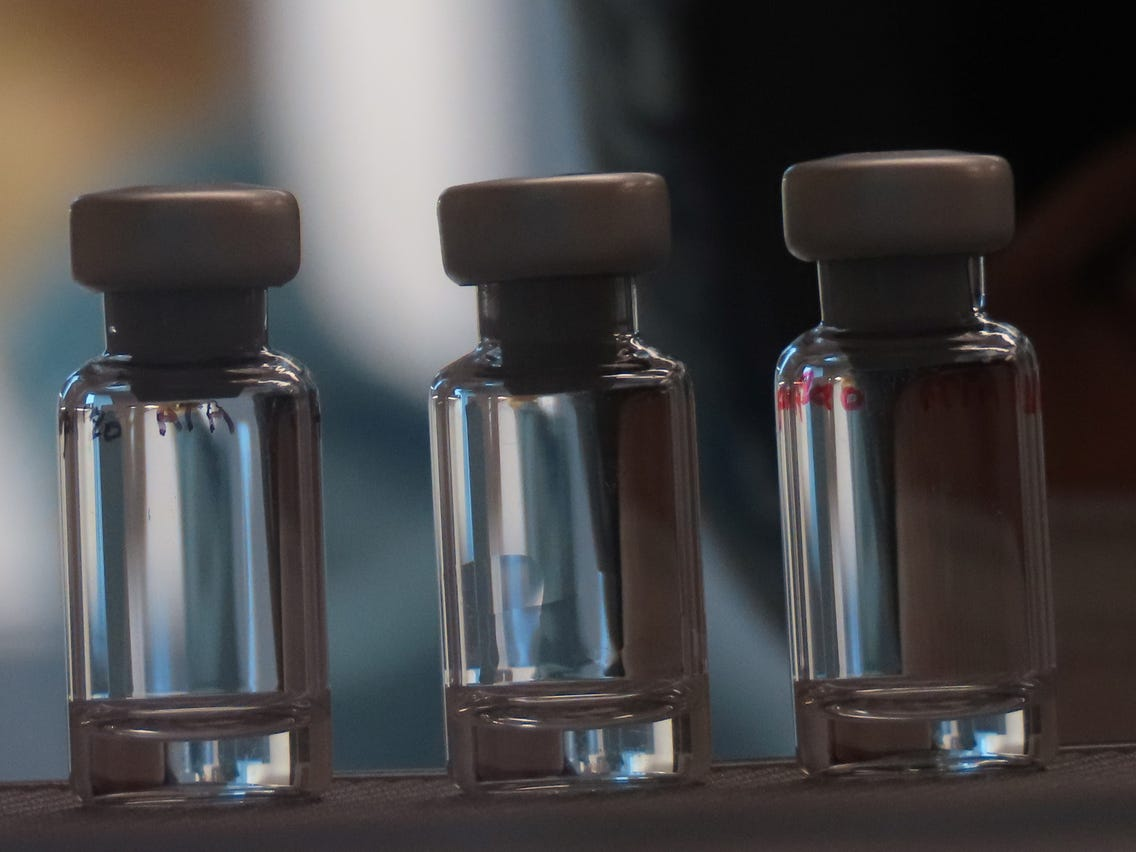glass_bottle: (418, 166, 717, 804), (50, 179, 344, 820), (768, 143, 1060, 784)
